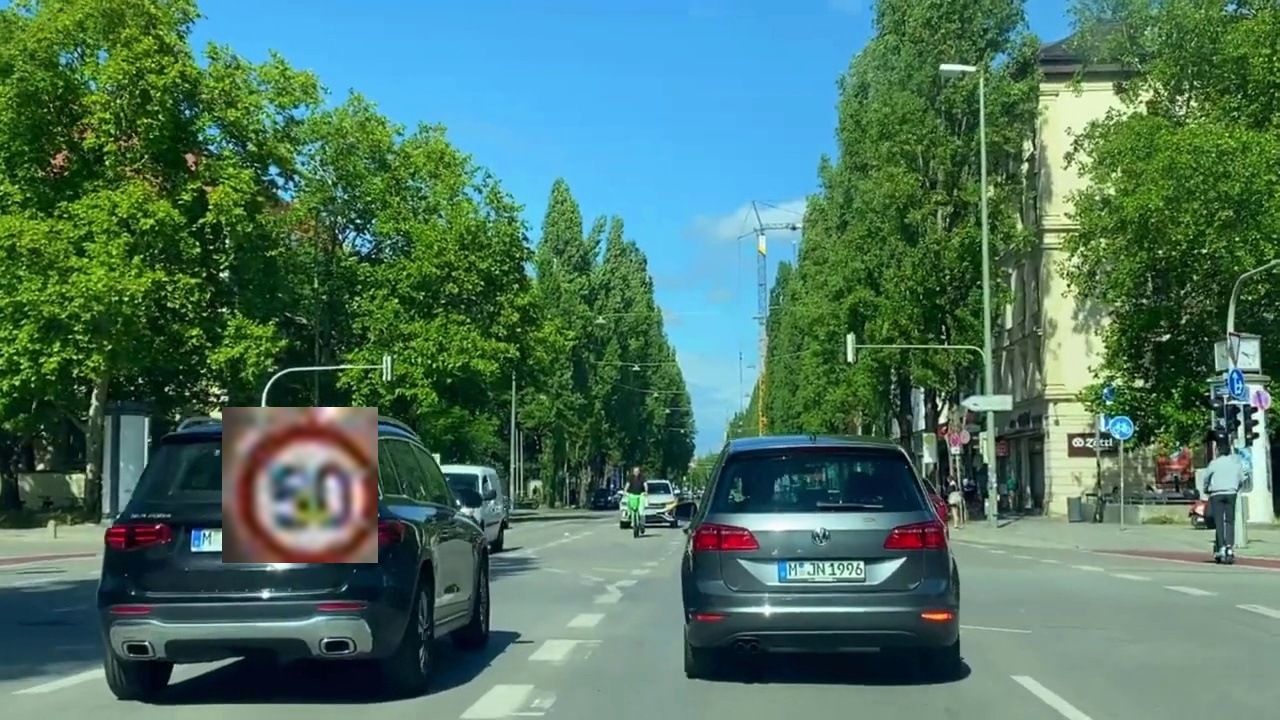Speed 50: (222, 407, 378, 563)
